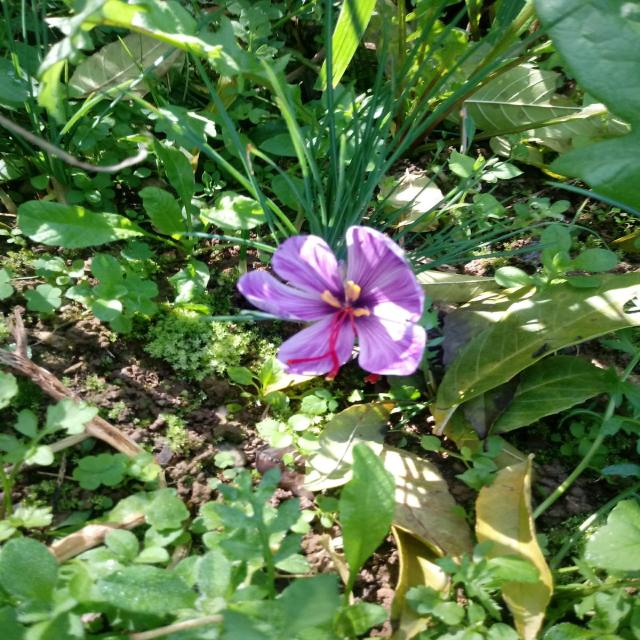saffron open: (238, 226, 427, 378)
